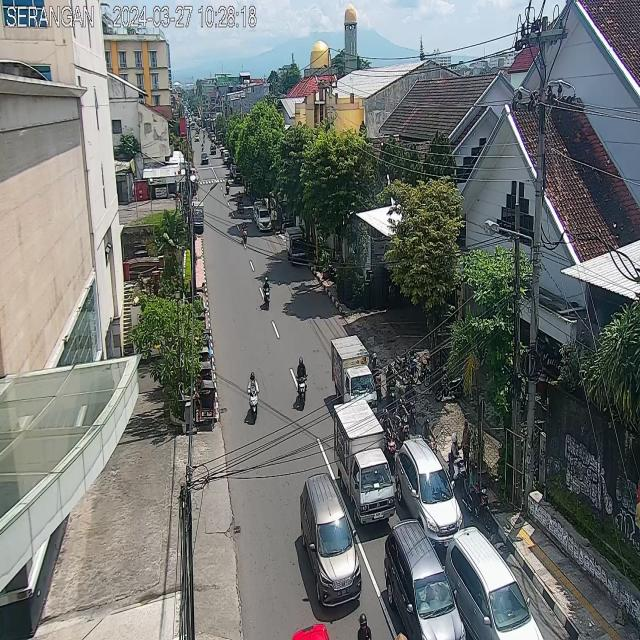car: (445, 525, 543, 640), (384, 517, 465, 640), (300, 471, 363, 608), (396, 438, 463, 553), (256, 206, 272, 232), (252, 200, 264, 223), (201, 153, 208, 165)
motorcycle: (464, 462, 493, 532), (378, 407, 396, 476), (448, 431, 468, 490), (392, 400, 411, 446), (401, 382, 417, 435), (294, 355, 308, 412), (420, 418, 438, 456), (370, 352, 383, 401), (248, 371, 260, 424), (385, 363, 397, 408), (262, 276, 272, 311), (241, 221, 248, 244), (226, 179, 230, 195), (201, 143, 204, 151)
truck: (335, 404, 396, 520), (331, 335, 377, 418), (286, 227, 306, 265)
